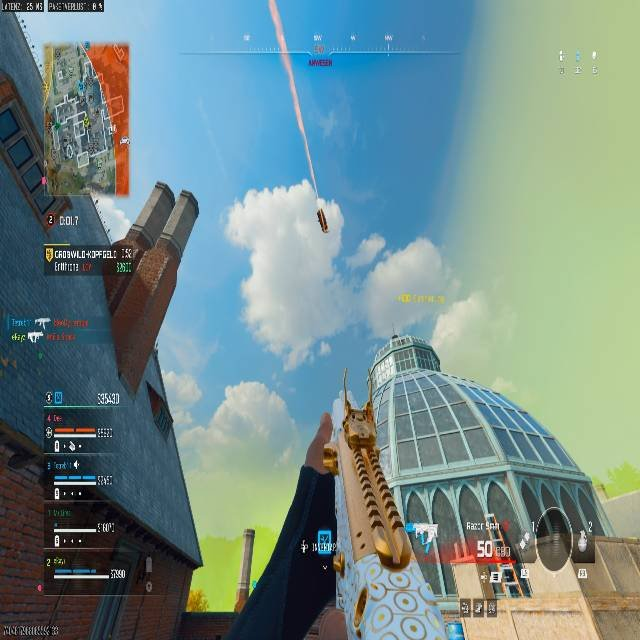player: (336, 234, 462, 345)
